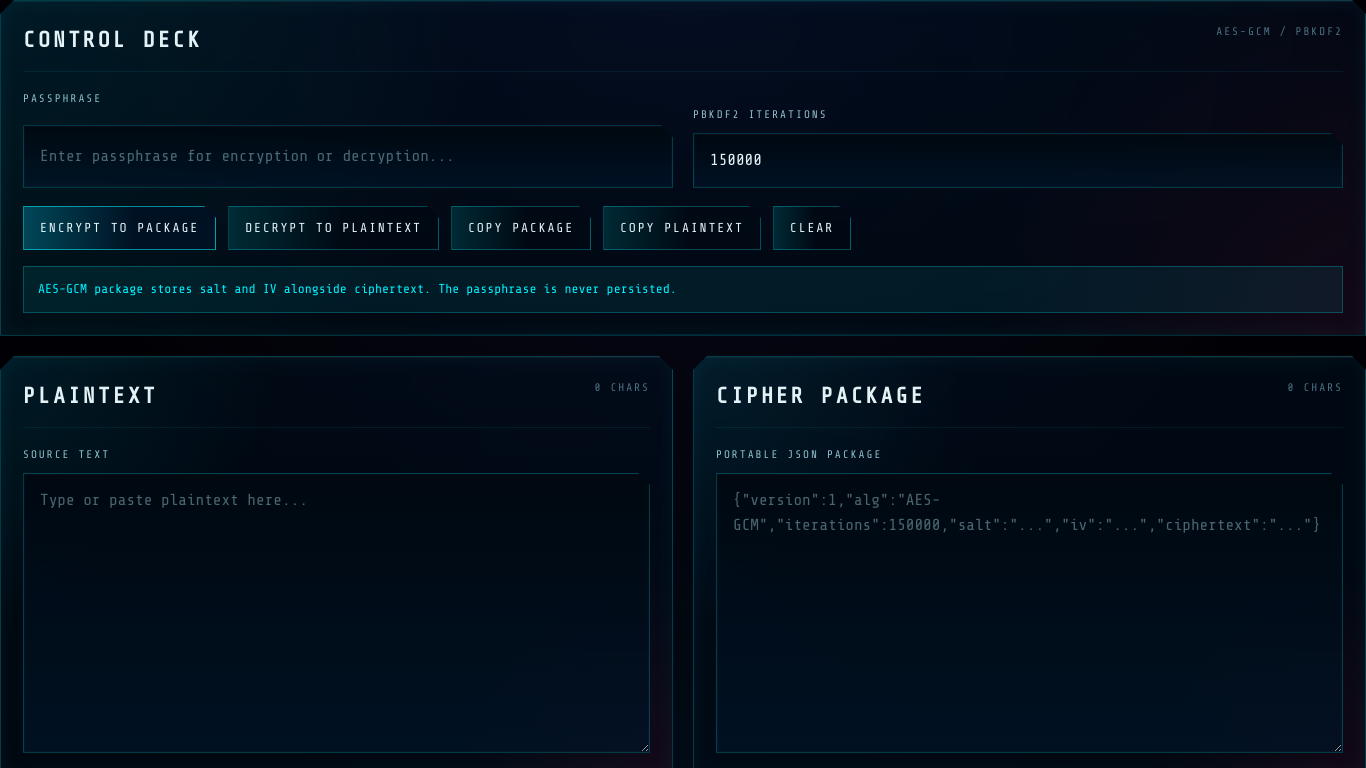
Test: crypto tools › encrypts AES packages and rejects missing passphrases
Click the button "Encrypt To Package" at [120, 228], box left=23, top=206, right=216, bottom=250
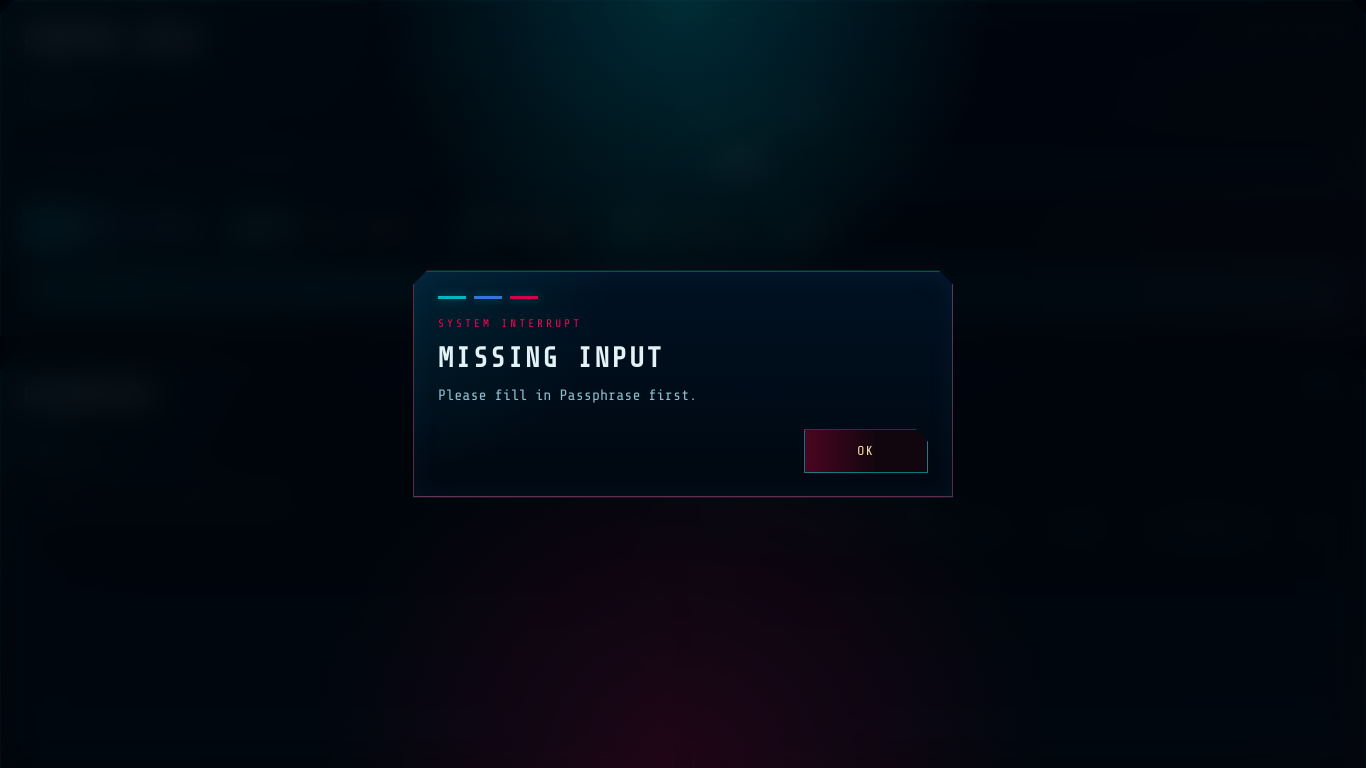
Now the dialog "Missing Input" is shown, box left=413, top=270, right=953, bottom=497
Now the text "Please fill in Passphrase first." is shown, box left=438, top=387, right=697, bottom=404
Click the button "OK" at [866, 452], box left=804, top=430, right=928, bottom=474
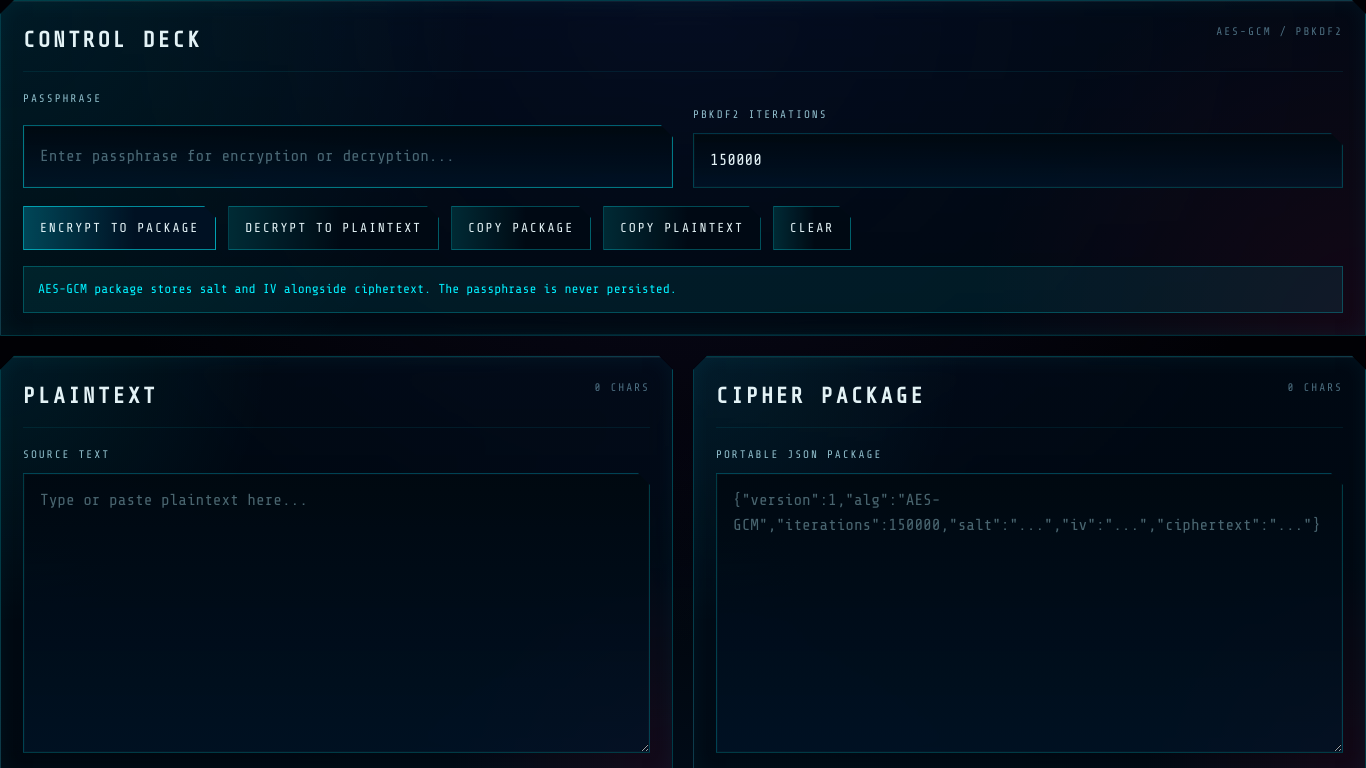
Type "hunter2" into the password field labelled "Passphrase" at [348, 156], box left=23, top=125, right=673, bottom=188
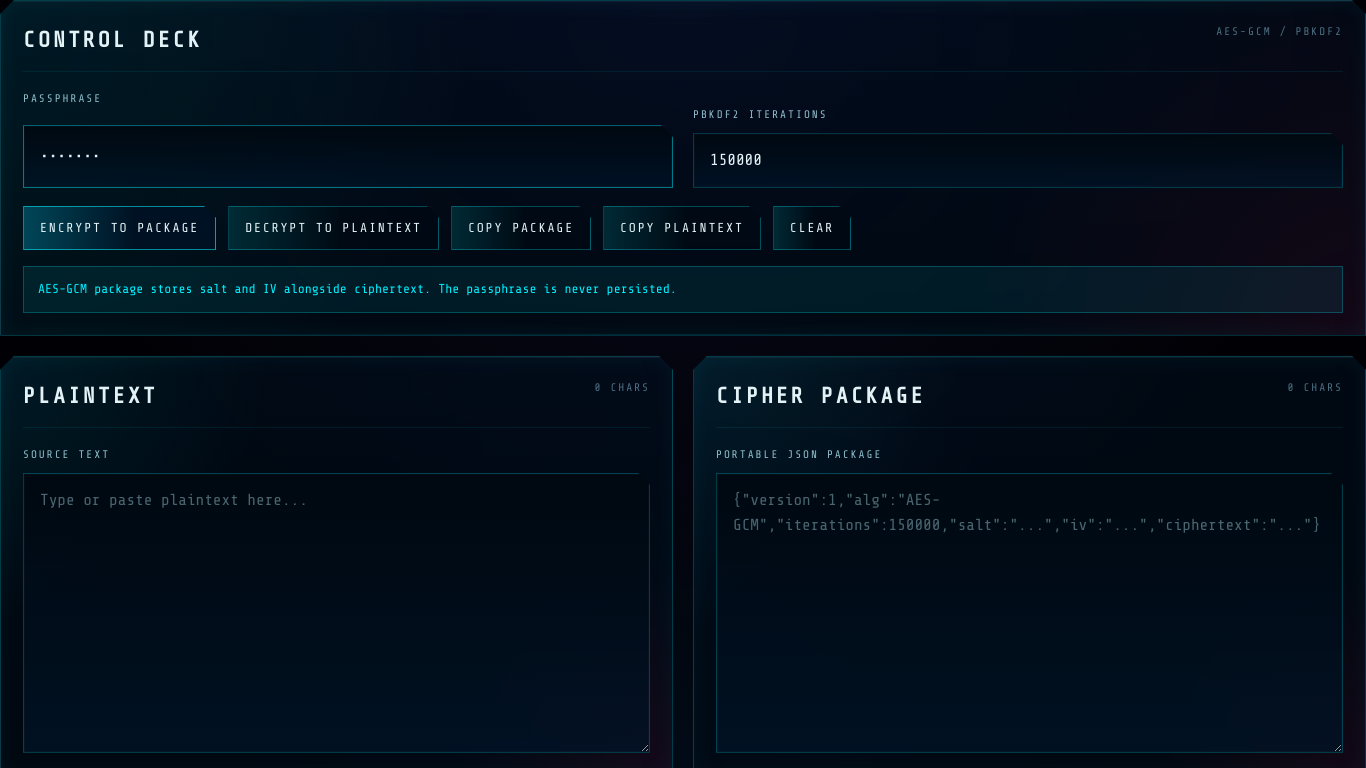
Type "secret message" into the text box labelled "Source Text" at [336, 613], box left=23, top=473, right=650, bottom=753
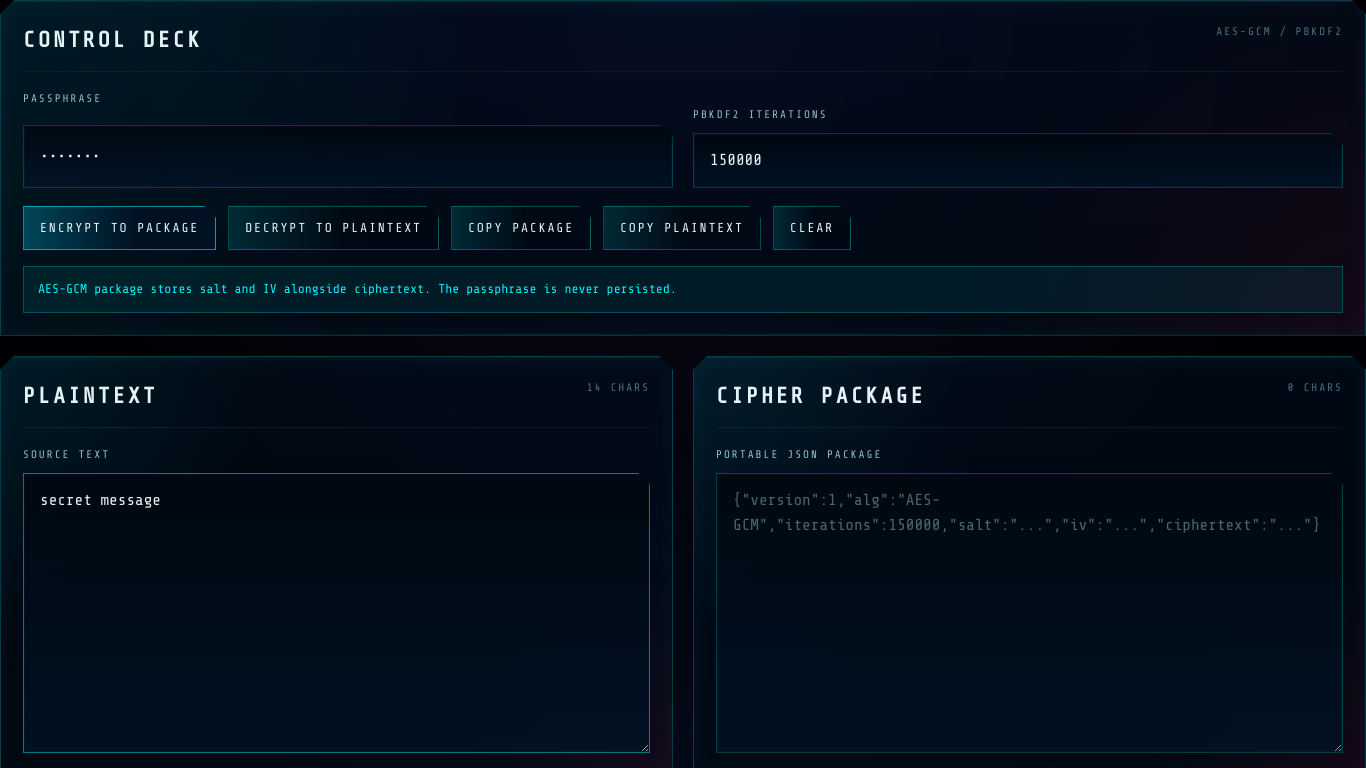
Select "100000" in the dropdown labelled "PBKDF2 Iterations" at [1018, 160], box left=693, top=133, right=1343, bottom=188
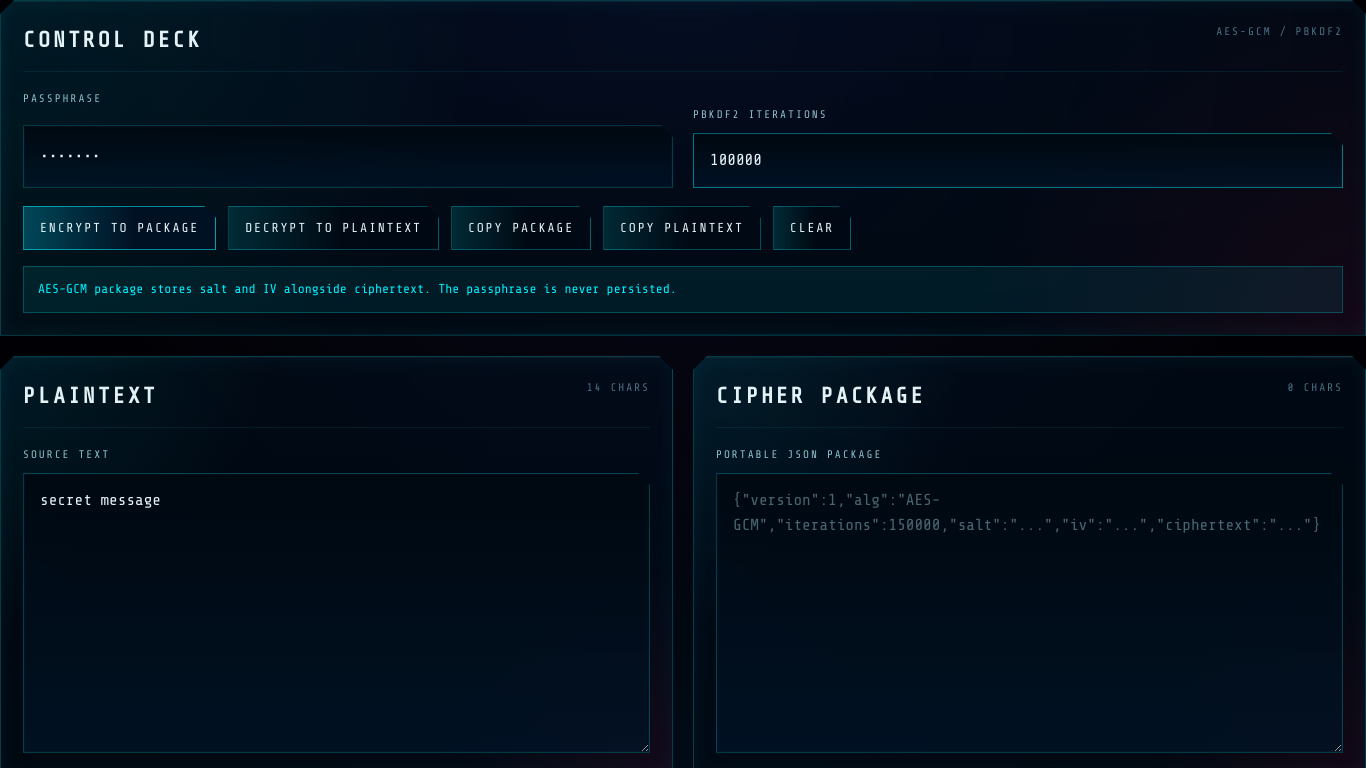
Click the button "Encrypt To Package" at [120, 228], box left=23, top=206, right=216, bottom=250
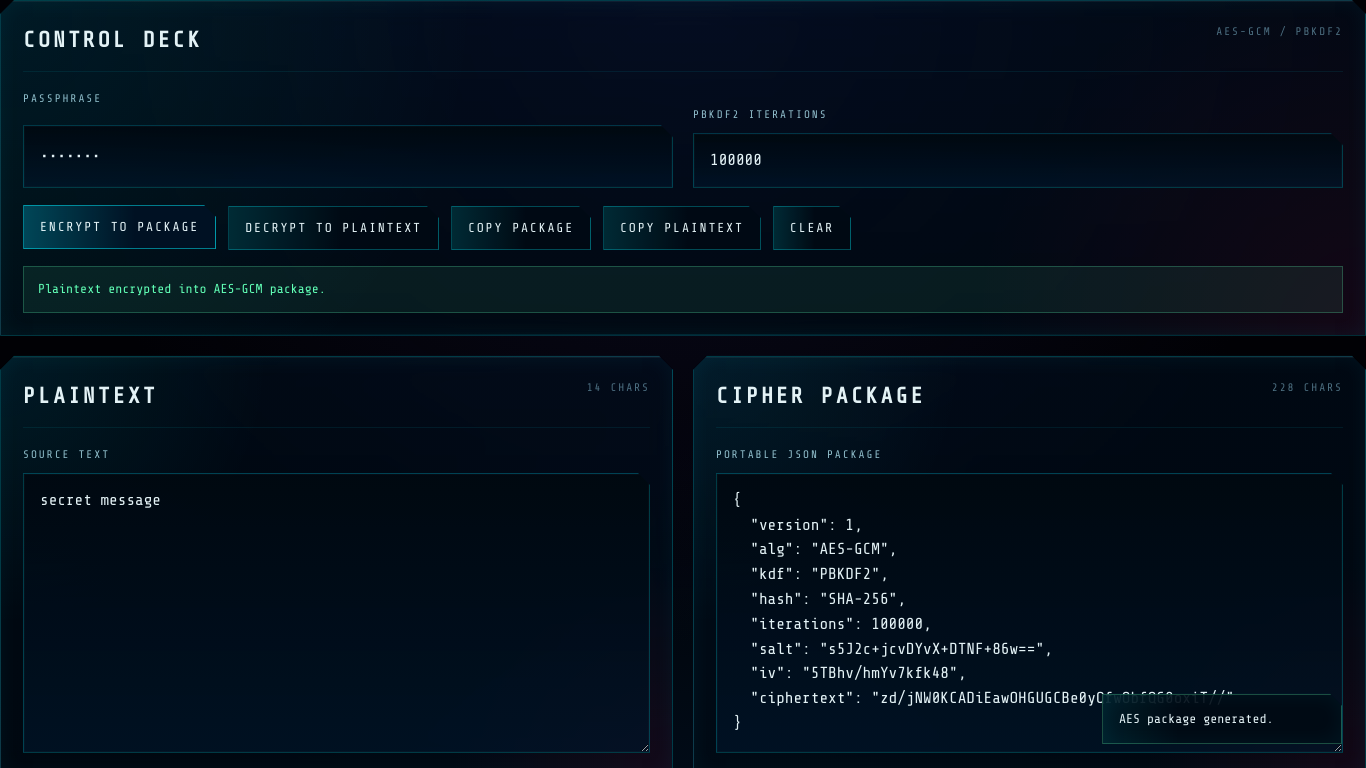
Now the text "Plaintext encrypted into AES-GCM package." is shown, box left=23, top=266, right=1343, bottom=313
